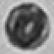correct: (4, 2, 51, 52)
